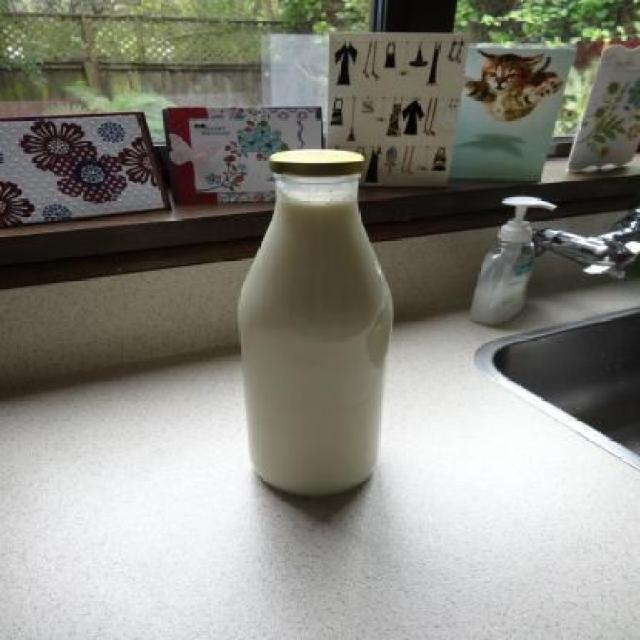Milk: (238, 188, 394, 497)
